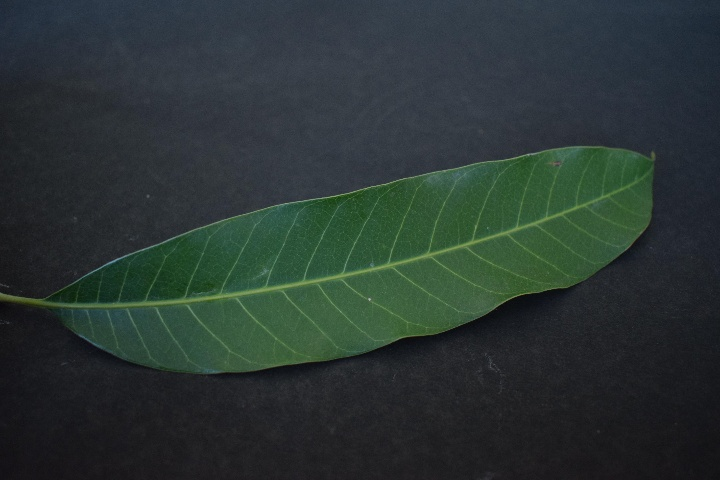healthy: (54, 143, 664, 372)
